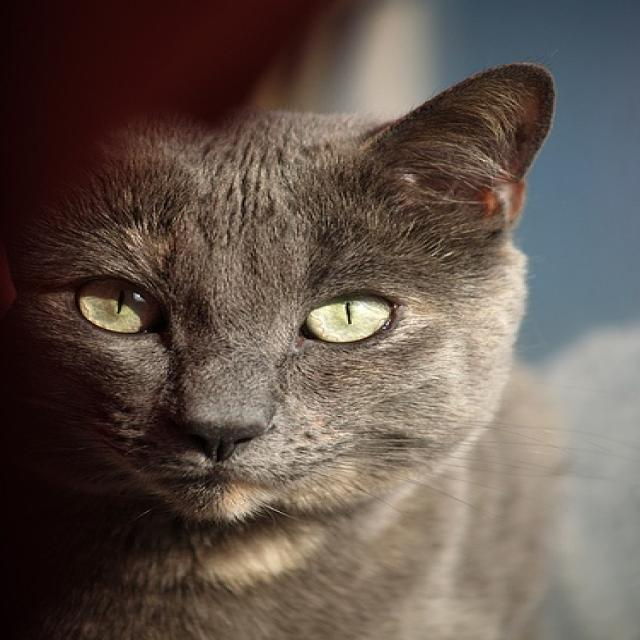cat: (1, 62, 581, 638)
